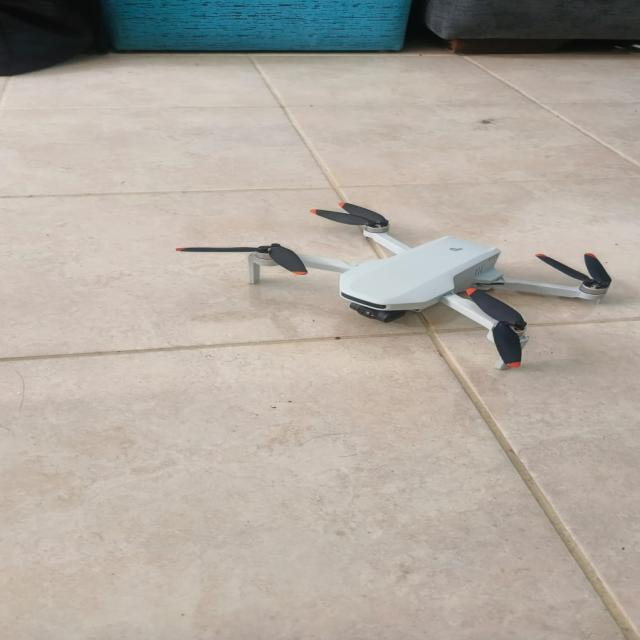dron: (175, 193, 640, 381)
